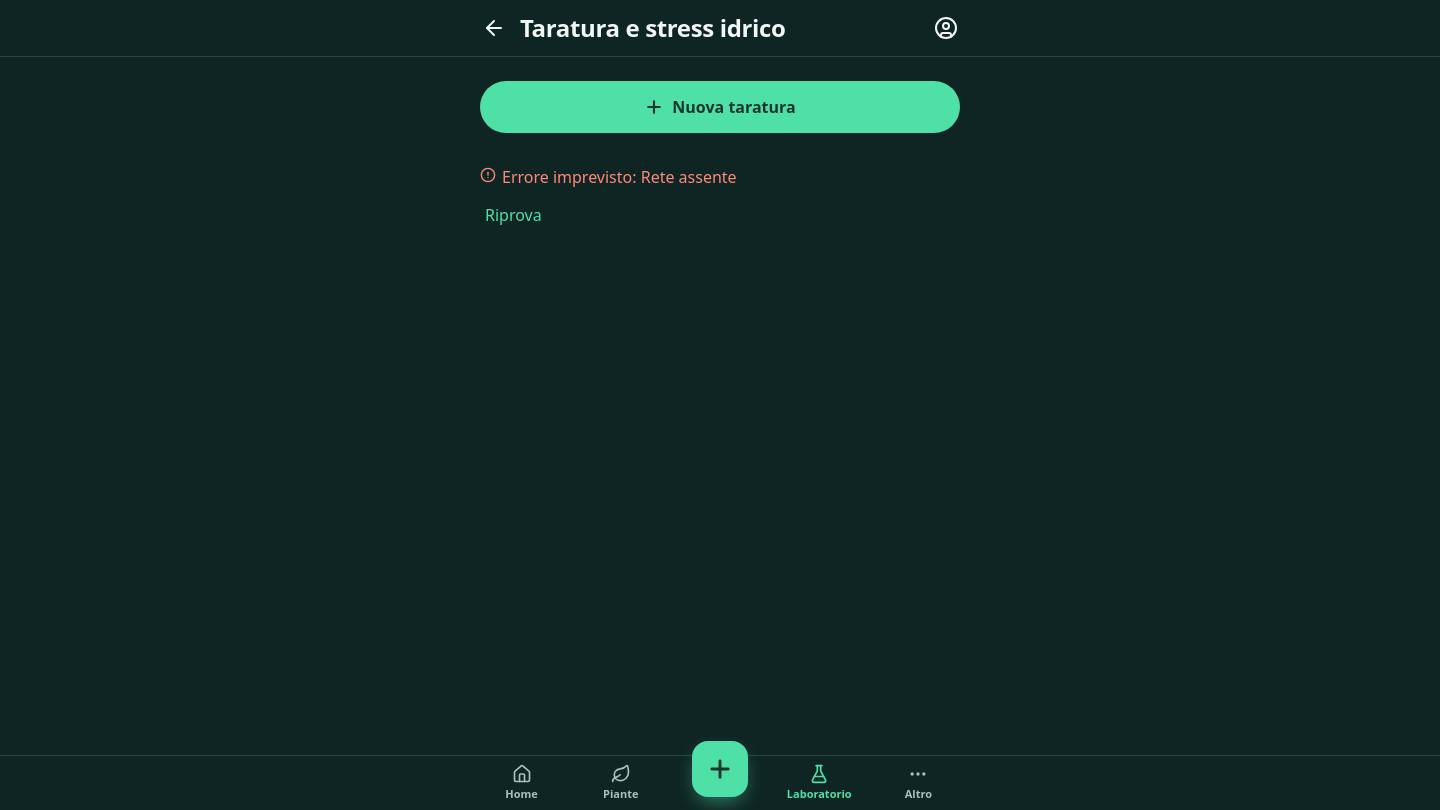
Scenario: Taratura › un errore di lettura si può riprovare
The image size is (1440, 810).
Click the button "Riprova".
click(513, 215)  # box [468, 193, 559, 237]
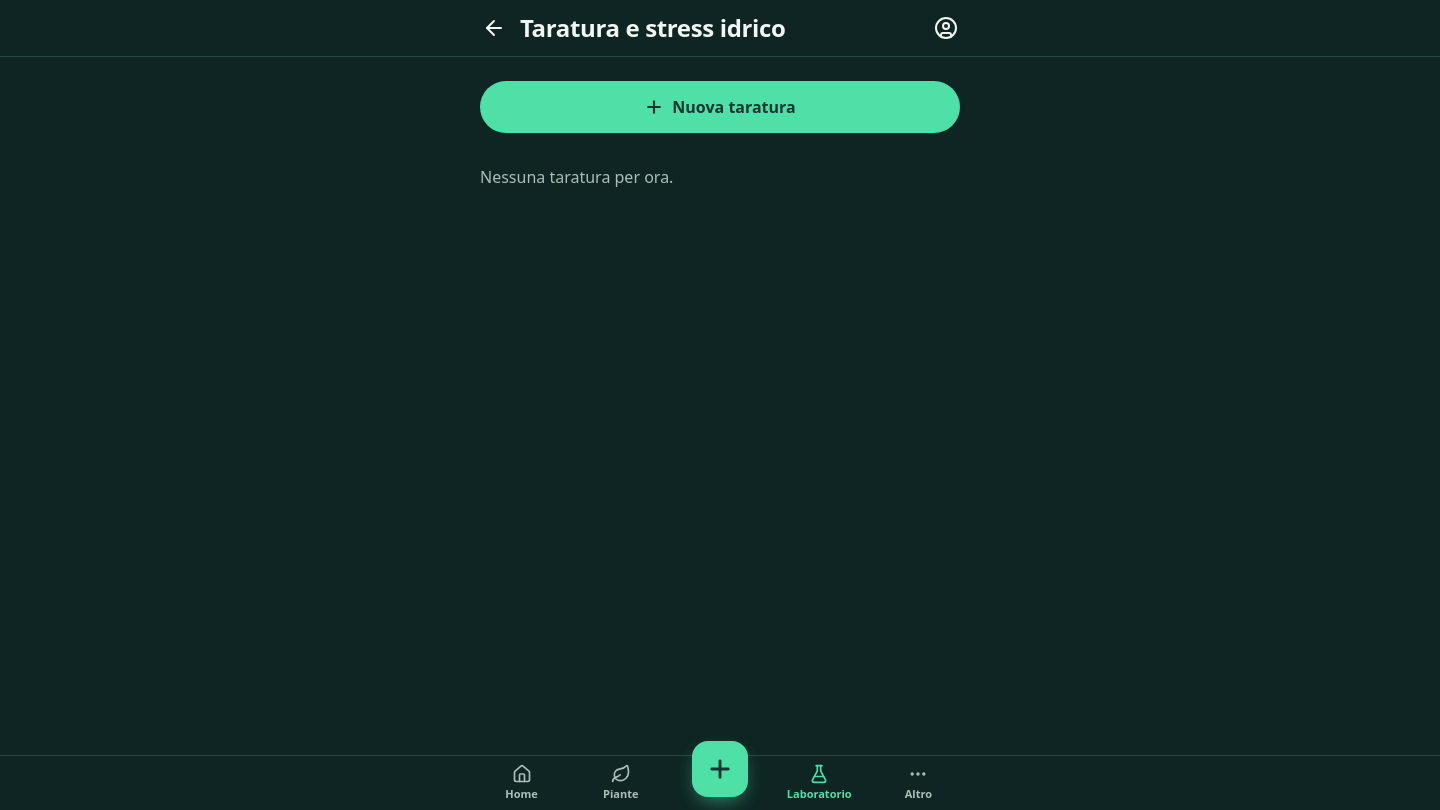
Result: the text "Nessuna taratura per ora." is shown at [480, 166, 673, 188]
